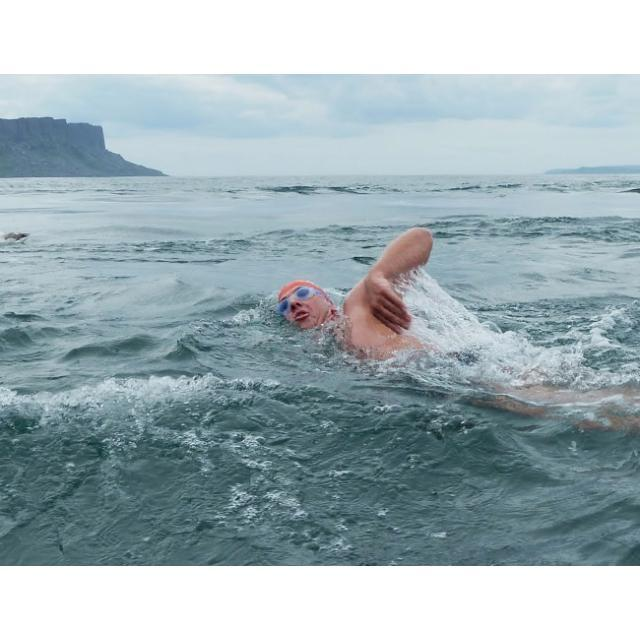human: (267, 220, 537, 419)
